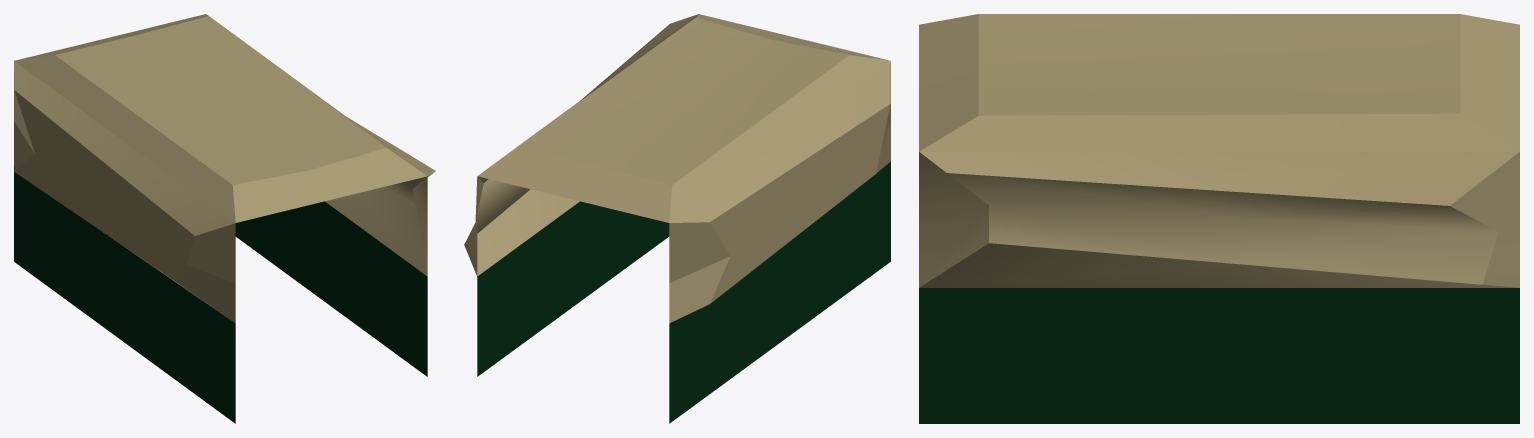
File: Modular_A_Long.fbx
3 views of the same model, side by side, from view 1: azimuth 30°, elevation 25°; view 2: azimuth 150°, elevation 25°; view 3: azimuth 270°, elevation 25° (orthographic). The views are drawn at different scales.
Visible parts, largest first — view 1: Geo_A_Large; view 2: Geo_A_Large; view 3: Geo_A_Large.
Boxes of the visible parts, x1,y1,x2,y2 form: Geo_A_Large: (14, 14, 435, 423); Geo_A_Large: (464, 14, 890, 423); Geo_A_Large: (919, 14, 1519, 423).
Size of the model in its own units: 4.98 by 4.37 by 8.
